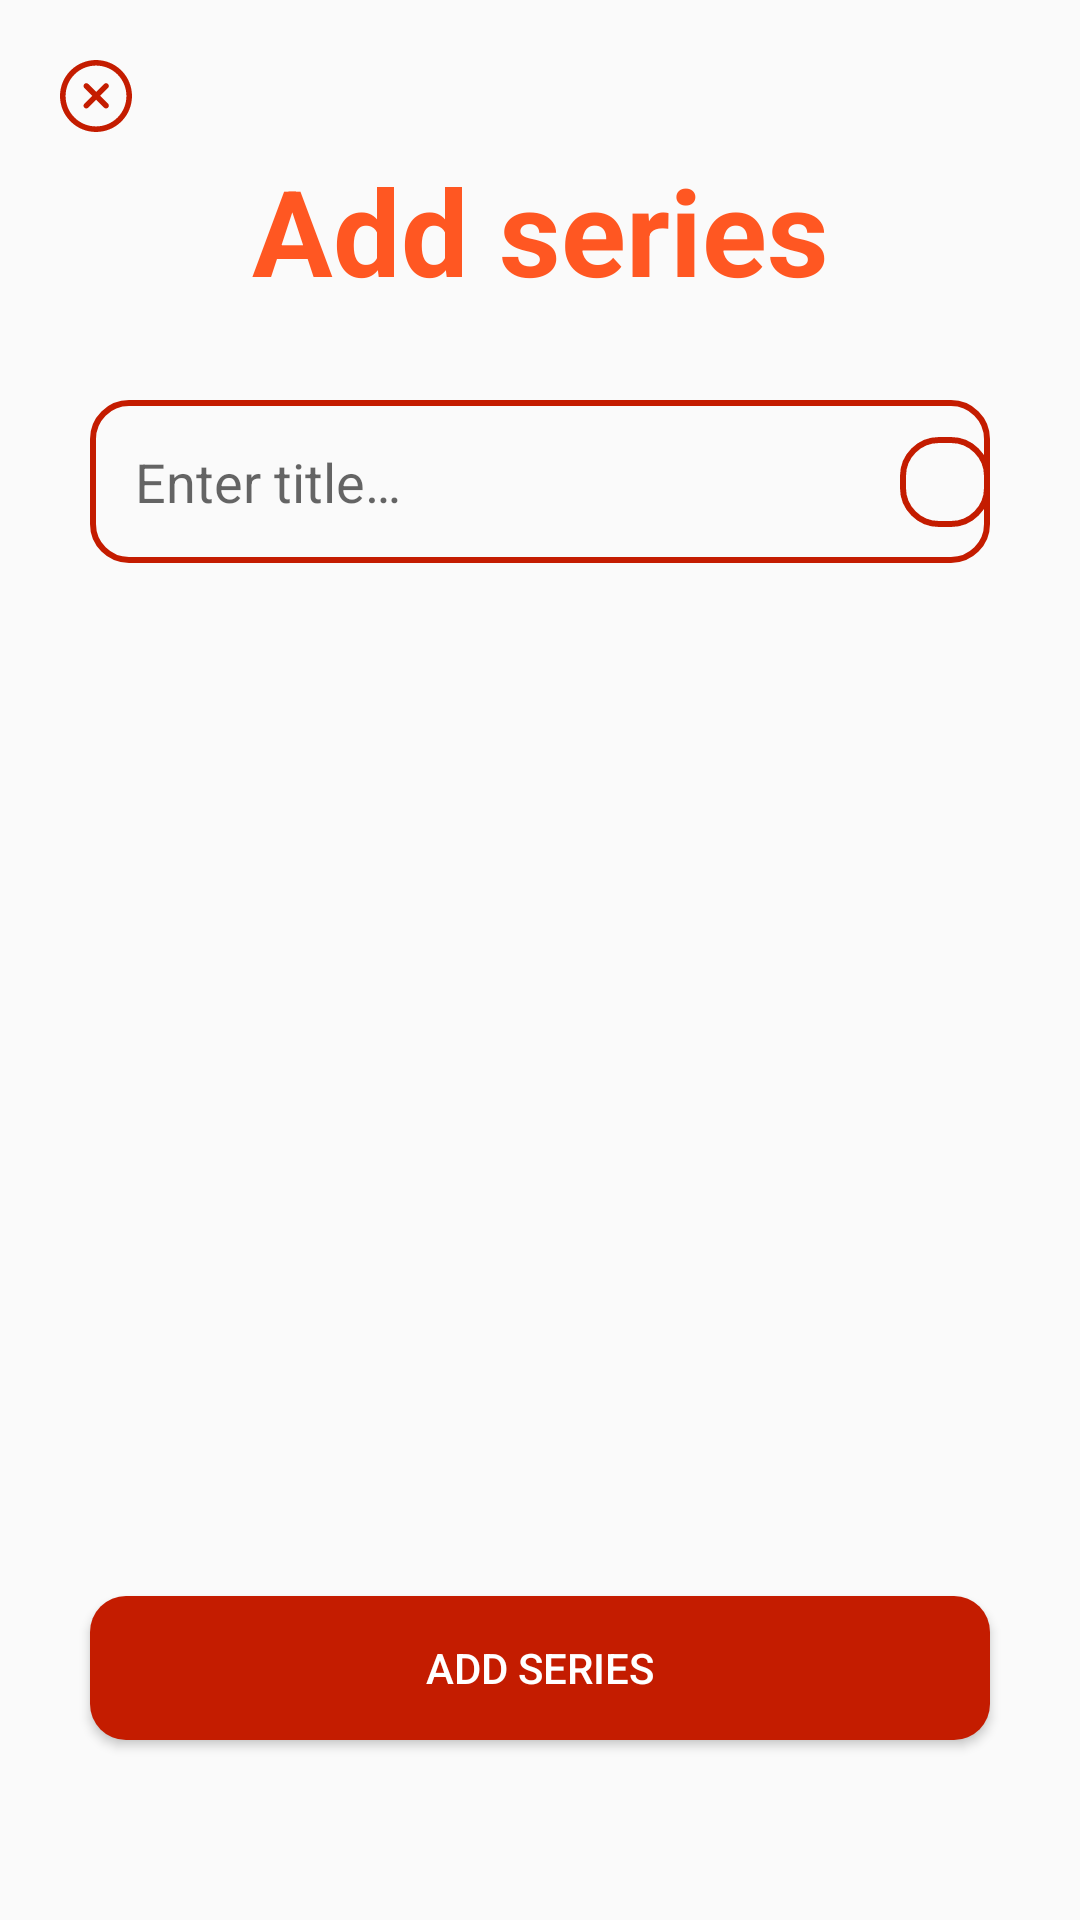

Named icons in this screenshot (1080px x 1920px) and their bounding boxes, (x1, y1, x2, y2):
close: (60, 60, 132, 132)
